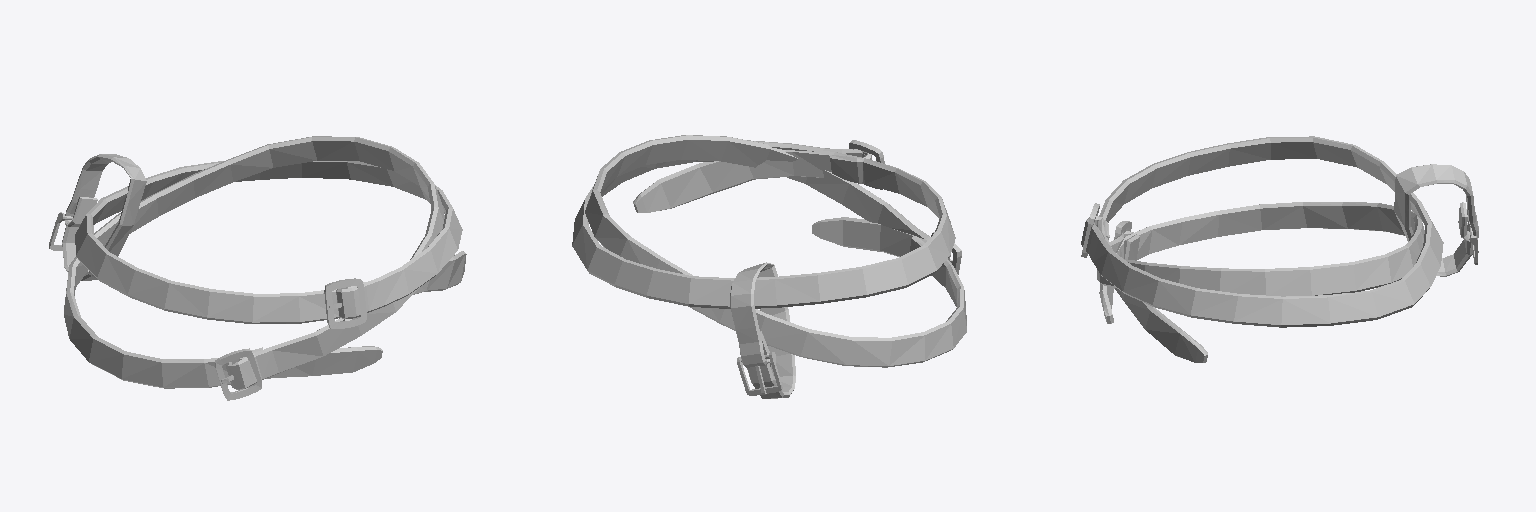
File: belt_low.OBJ
The picture shows the model from 3 angles: view 1: azimuth 30°, elevation 25°; view 2: azimuth 150°, elevation 25°; view 3: azimuth 270°, elevation 25°; orthographic projection.
Visible parts, largest first — view 1: belt_low1:Group60236, belt_low1:Group60235, belt_low1:Group60238, belt_low:Group60240, belt_low:Group60241; view 2: belt_low1:Group60235, belt_low1:Group60236, belt_low1:Group60238, belt_low:Group60239; view 3: belt_low1:Group60235, belt_low1:Group60236, belt_low1:Group60238.
Part boxes in pixels (bbox=[...]): belt_low1:Group60236: bbox=[64, 136, 444, 389]; belt_low1:Group60235: bbox=[75, 161, 466, 323]; belt_low1:Group60238: bbox=[62, 154, 146, 280]; belt_low:Group60240: bbox=[324, 278, 366, 328]; belt_low:Group60241: bbox=[215, 348, 261, 400]; belt_low1:Group60235: bbox=[572, 140, 955, 308]; belt_low1:Group60236: bbox=[585, 135, 966, 367]; belt_low1:Group60238: bbox=[730, 262, 795, 398]; belt_low:Group60239: bbox=[737, 351, 782, 395]; belt_low1:Group60235: bbox=[1081, 136, 1443, 362]; belt_low1:Group60236: bbox=[1097, 202, 1424, 323]; belt_low1:Group60238: bbox=[1394, 164, 1478, 276].
Size of the model in its own units: 27.46 by 9.18 by 26.84.